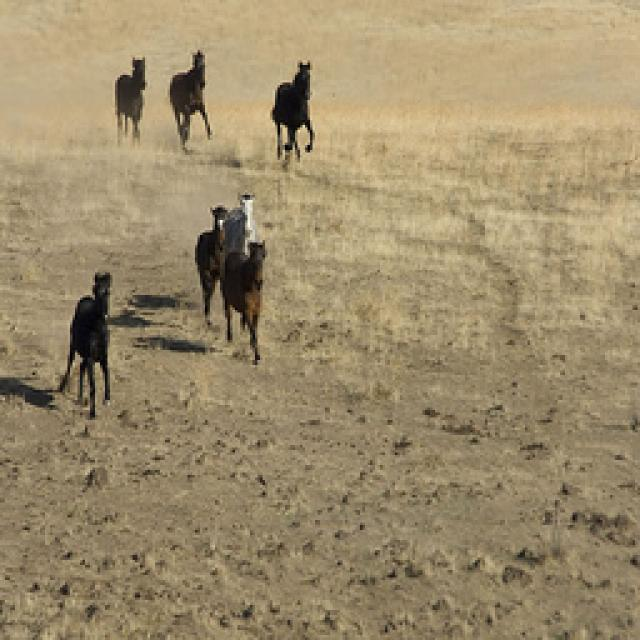not_pig: (55, 270, 113, 418), (217, 238, 265, 362), (192, 205, 228, 325), (168, 48, 210, 150), (270, 60, 312, 160), (212, 205, 248, 320), (115, 55, 145, 145)
